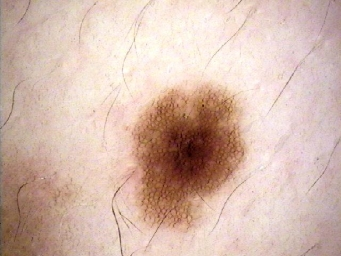nevus: (132, 83, 246, 225)
